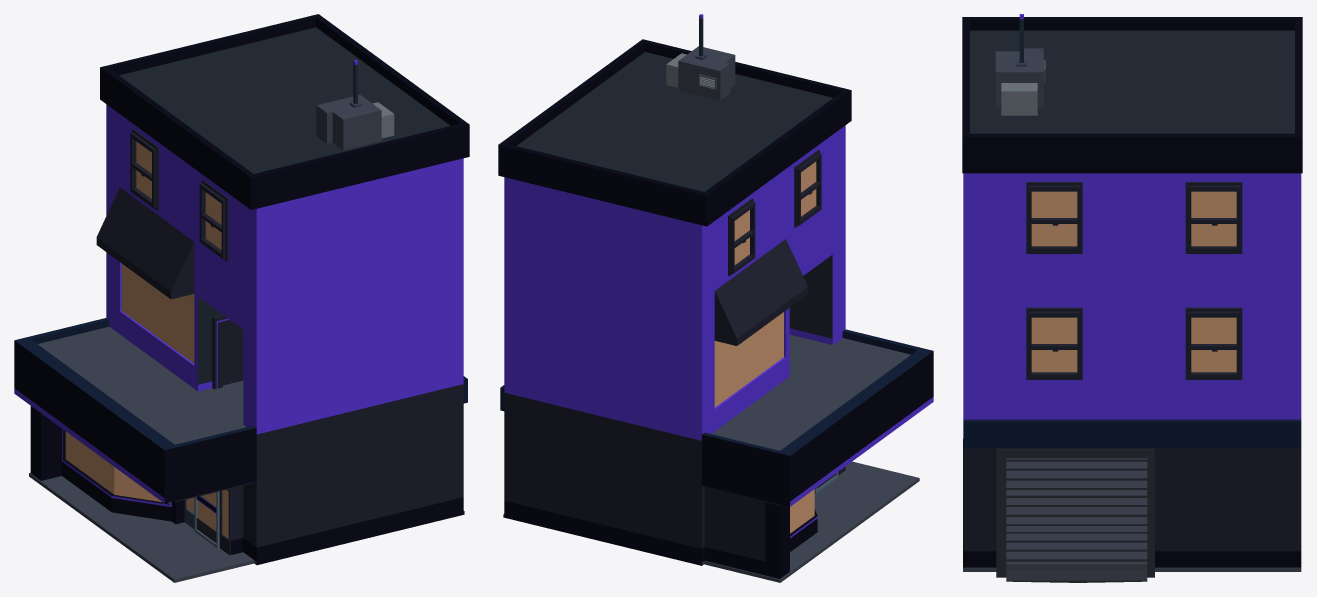
The model's file is Building_Small09.fbx.
3 renders of one model, left to right at view 1: azimuth 30°, elevation 25°; view 2: azimuth 150°, elevation 25°; view 3: azimuth 270°, elevation 25°, orthographic. The views are drawn at different scales.
Visible parts, largest first — view 1: Cube.570, Cube.571; view 2: Cube.570; view 3: Cube.570.
Part boxes in pixels (x1,y1,x2,y2): Cube.570: [14, 14, 469, 582]; Cube.571: [194, 491, 219, 548]; Cube.570: [498, 14, 933, 582]; Cube.570: [962, 14, 1302, 582].
Bounding box in the file's own units: 700 × 998 × 594.
